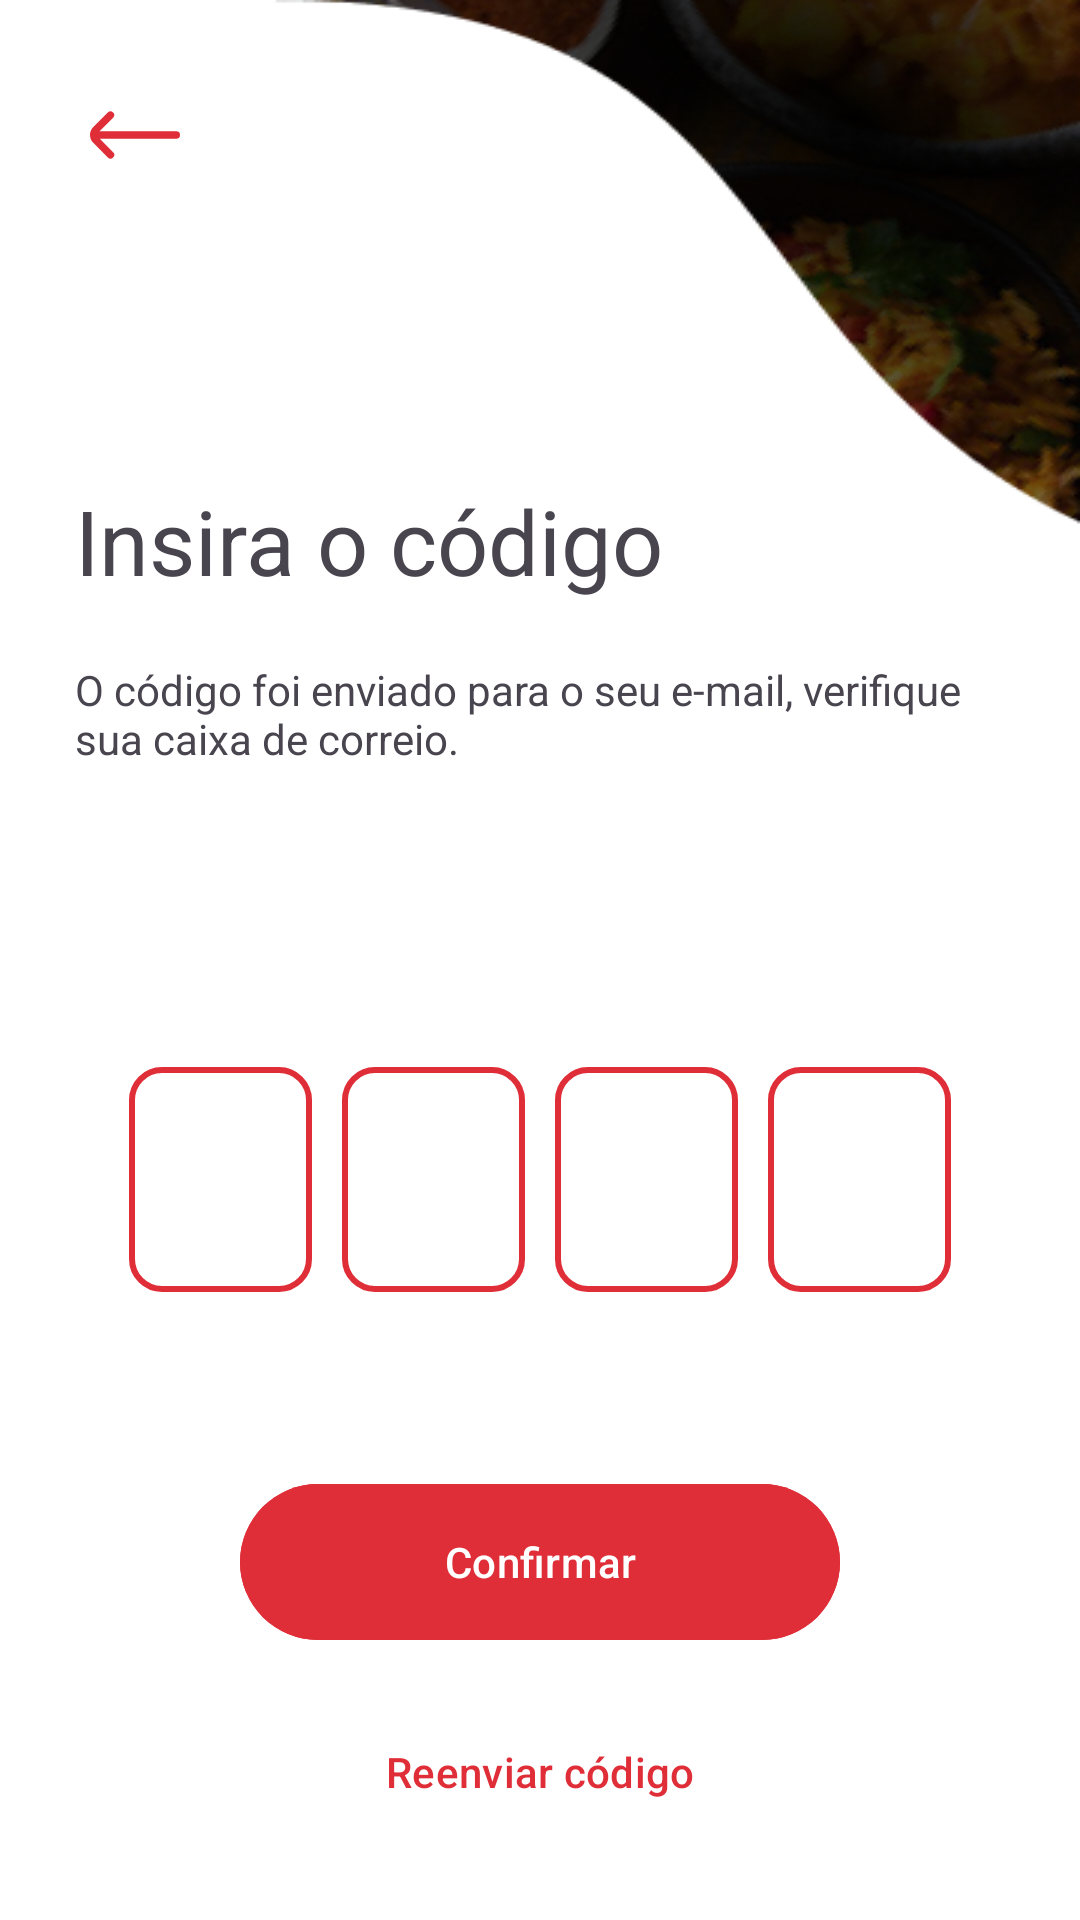

Where icons sit on this 1080x1920 app screen, as {"x1": x1, "y1": y1, "x2": x2, "y2": y2}:
seta: {"x1": 90, "y1": 111, "x2": 180, "y2": 159}
